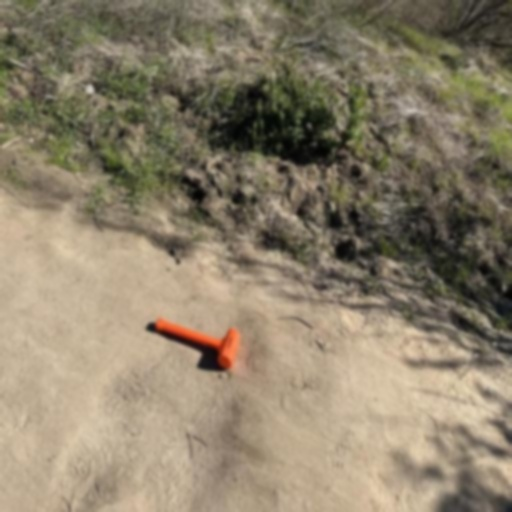mallet: (155, 318, 241, 370)
